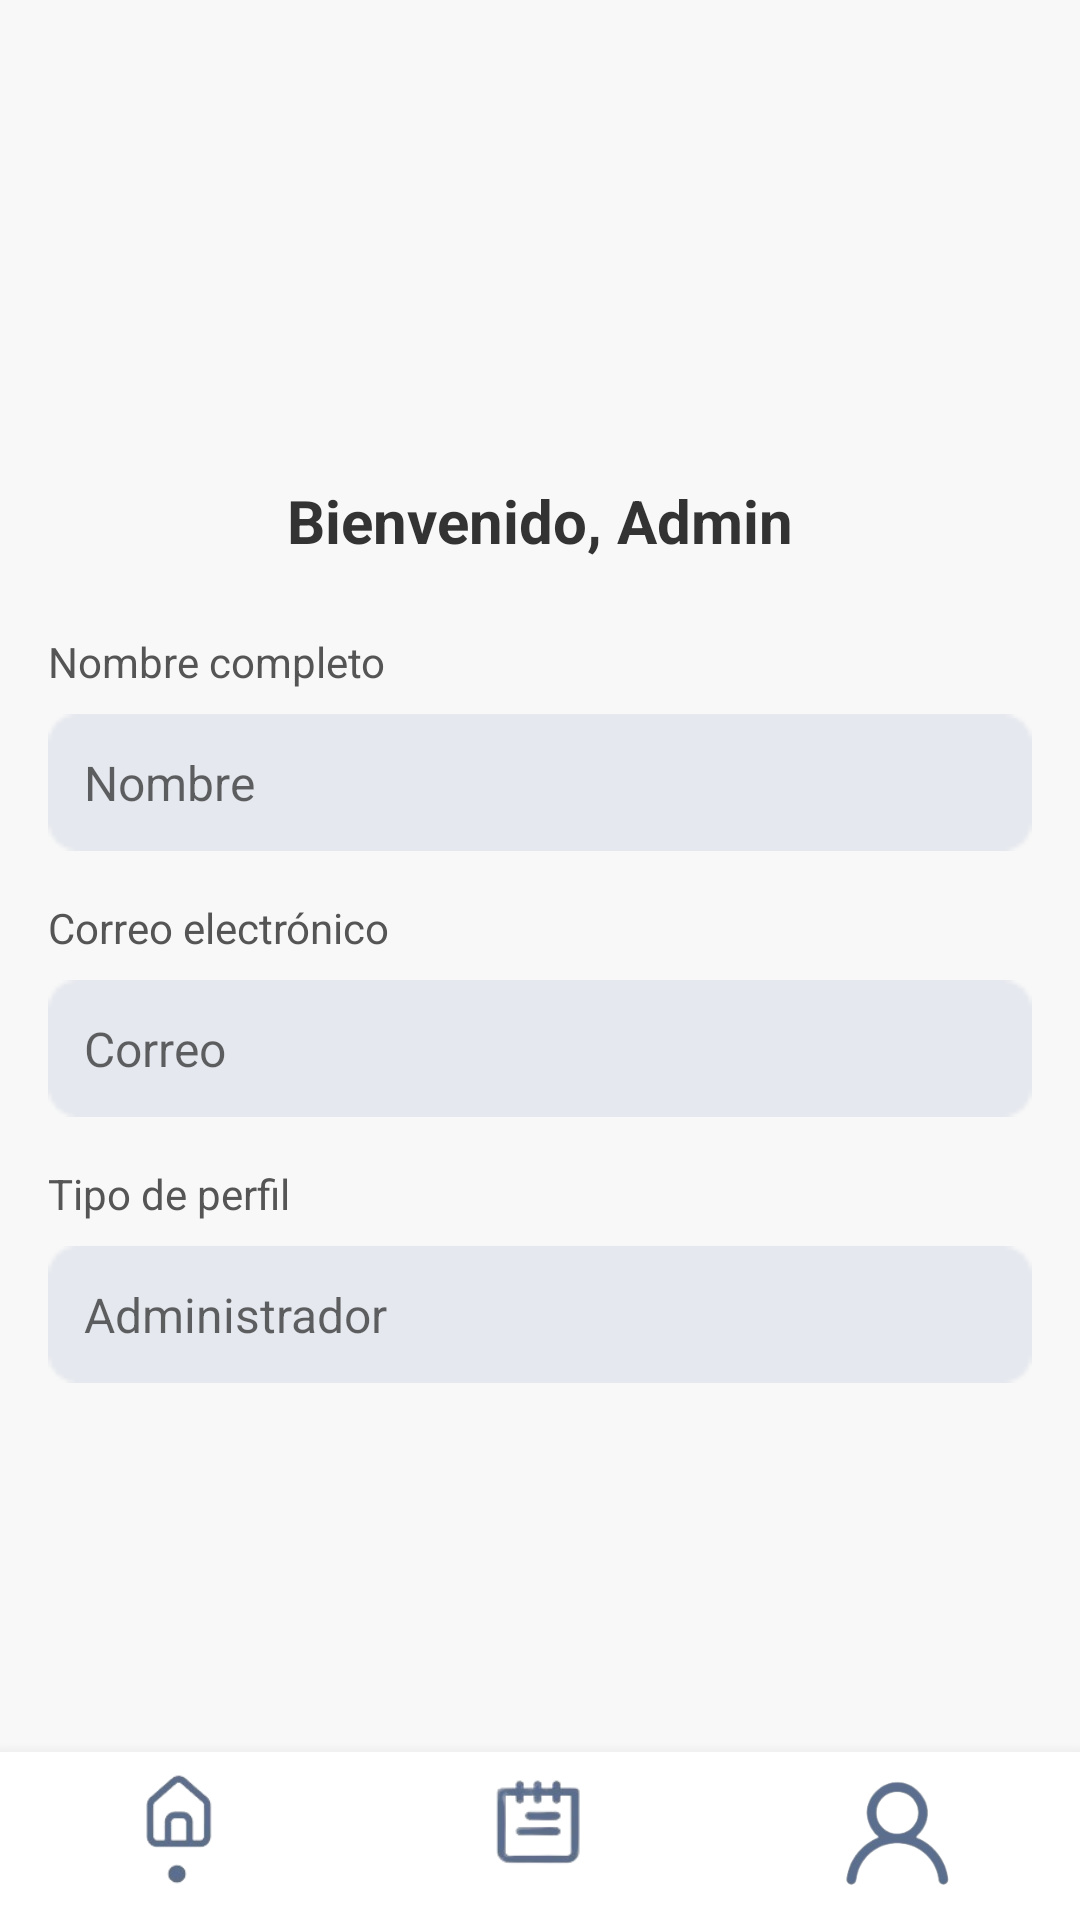

Where to tap for icons on this 1080px x 1920px app screen, as point (x, y):
Calendario: point (538, 1821)
Inicio: point (178, 1829)
Perfil: point (897, 1833)
